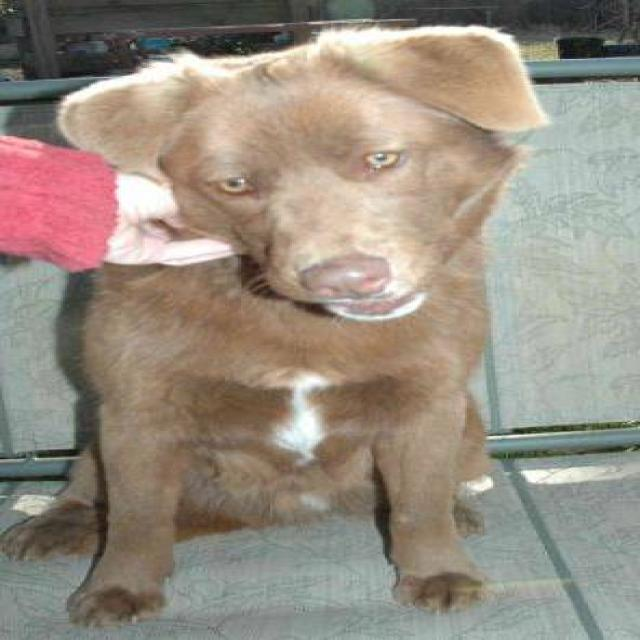dog: (0, 23, 551, 627)
